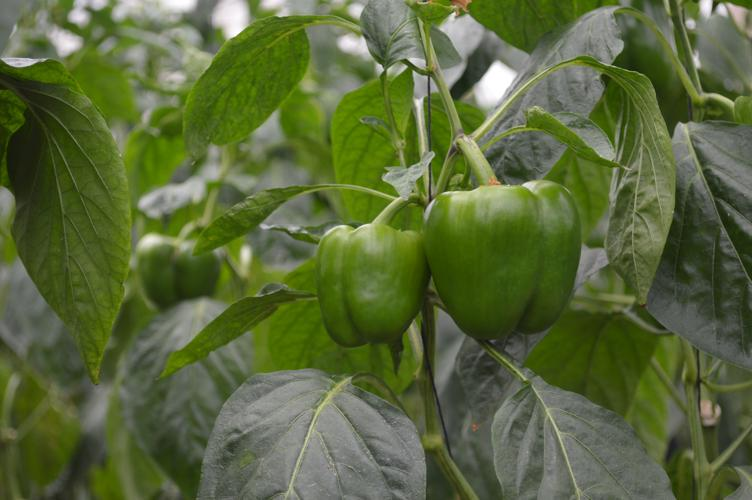BellPepper: (418, 185, 580, 343), (322, 217, 427, 348), (126, 223, 225, 312)
